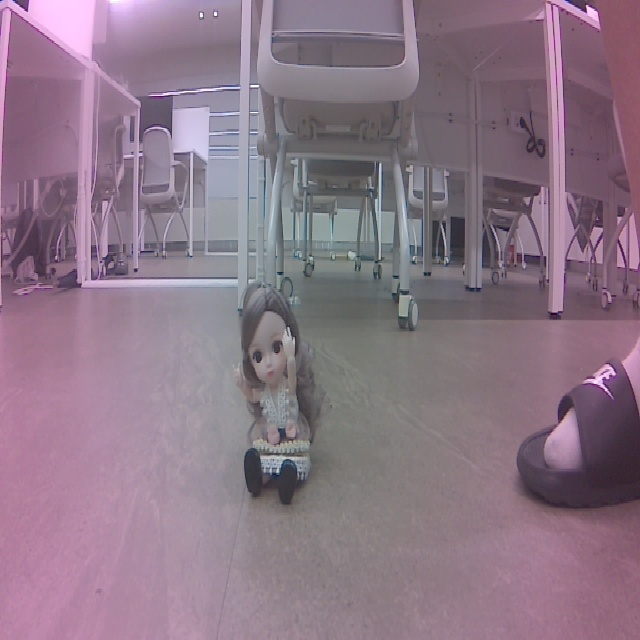장애물: (228, 279, 328, 507)
